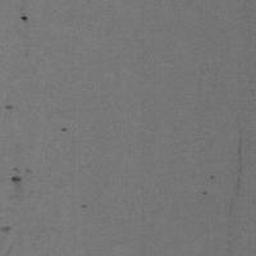Inclusion: (230, 133, 248, 200), (9, 166, 35, 183), (0, 224, 14, 234), (19, 14, 29, 22), (60, 125, 69, 133), (79, 202, 88, 210), (4, 104, 14, 111), (202, 189, 210, 196)
